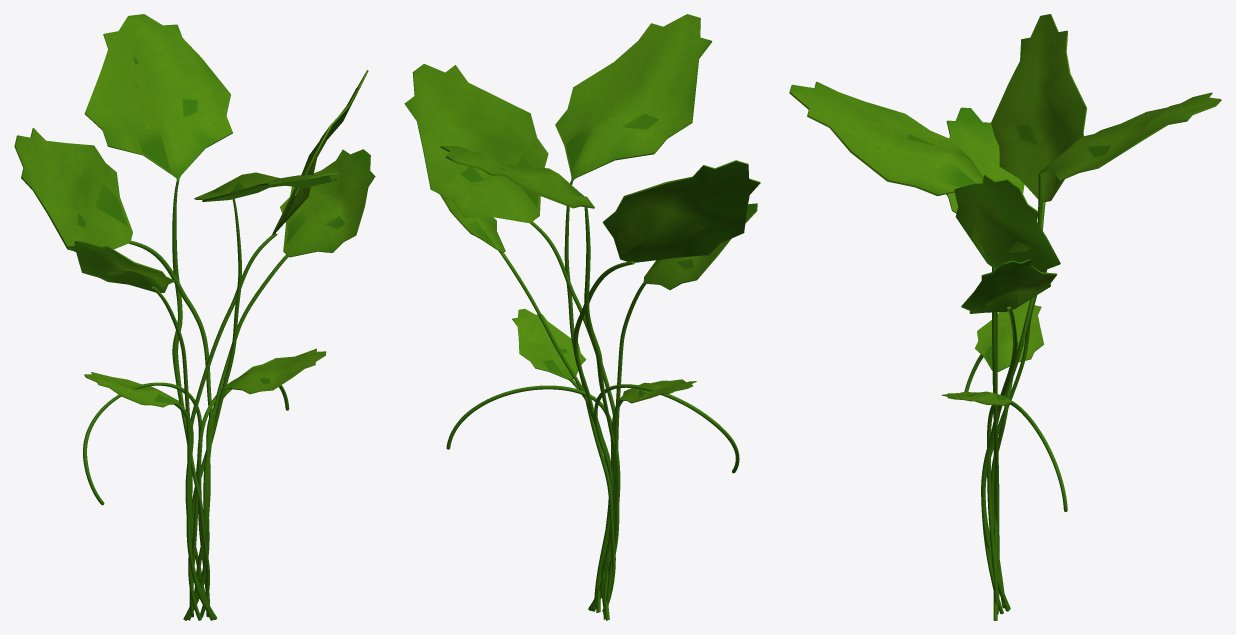
Rendered from eggplant2.fbx.
3 views of the same model, side by side, from view 1: azimuth 30°, elevation 25°; view 2: azimuth 150°, elevation 25°; view 3: azimuth 270°, elevation 25° (orthographic). The views are drawn at different scales.
Visible parts, largest first — view 1: eggplant_st6; view 2: eggplant_st6; view 3: eggplant_st6.
Part boxes in pixels (x1,y1,x2,y2): eggplant_st6: (14, 14, 375, 620); eggplant_st6: (404, 14, 760, 620); eggplant_st6: (789, 14, 1221, 620).
Size of the model in its own units: 0.5916 by 0.8484 by 0.622.
Materials: 1 (1 with a texture image).
